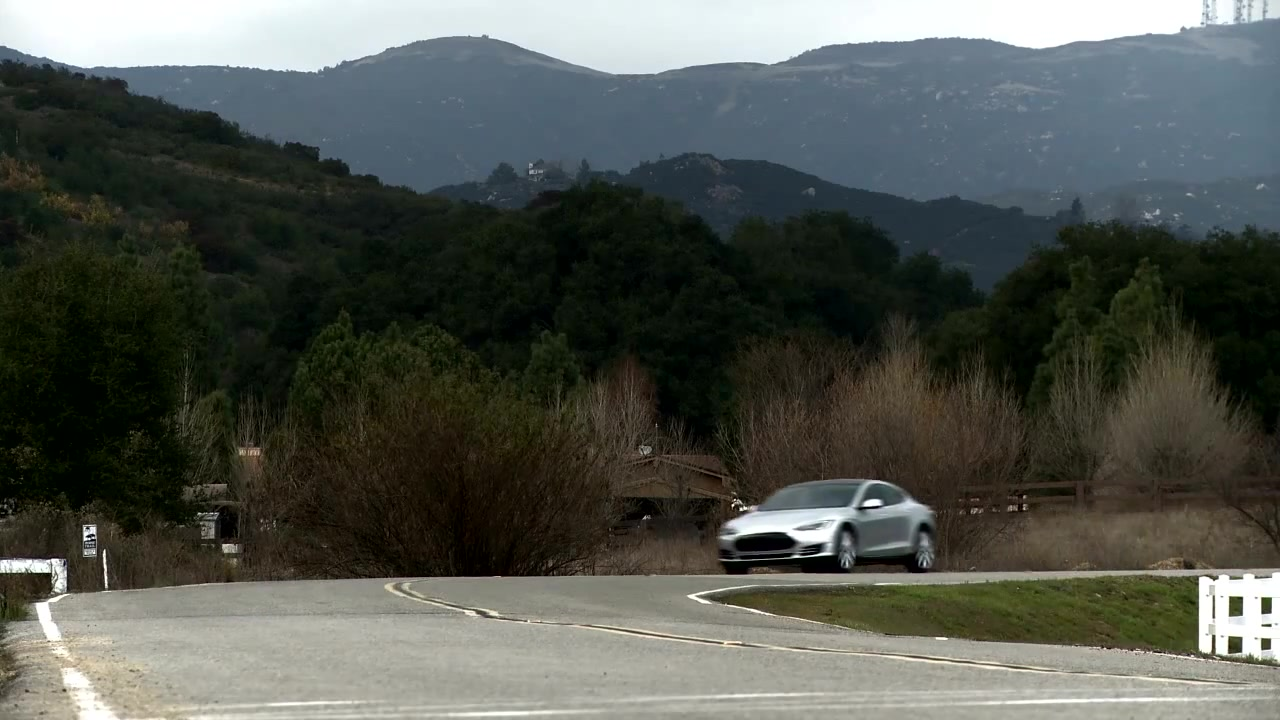car: (713, 477, 945, 578)
